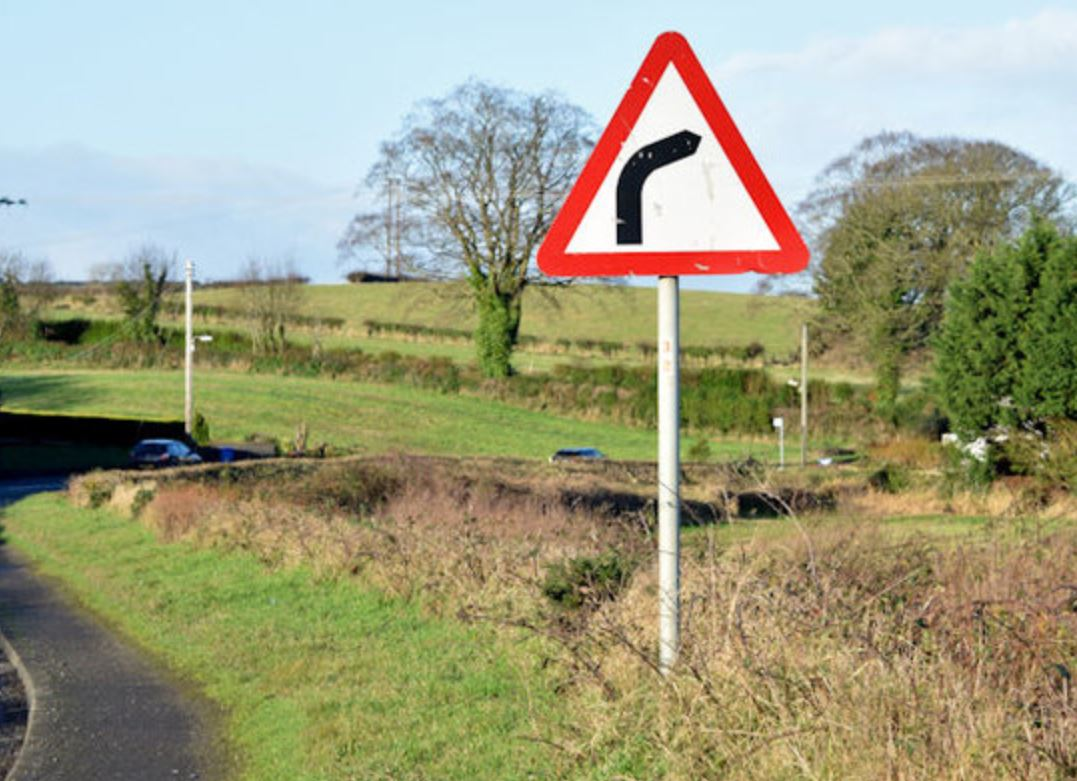Bend_to_right: (523, 27, 825, 291)
